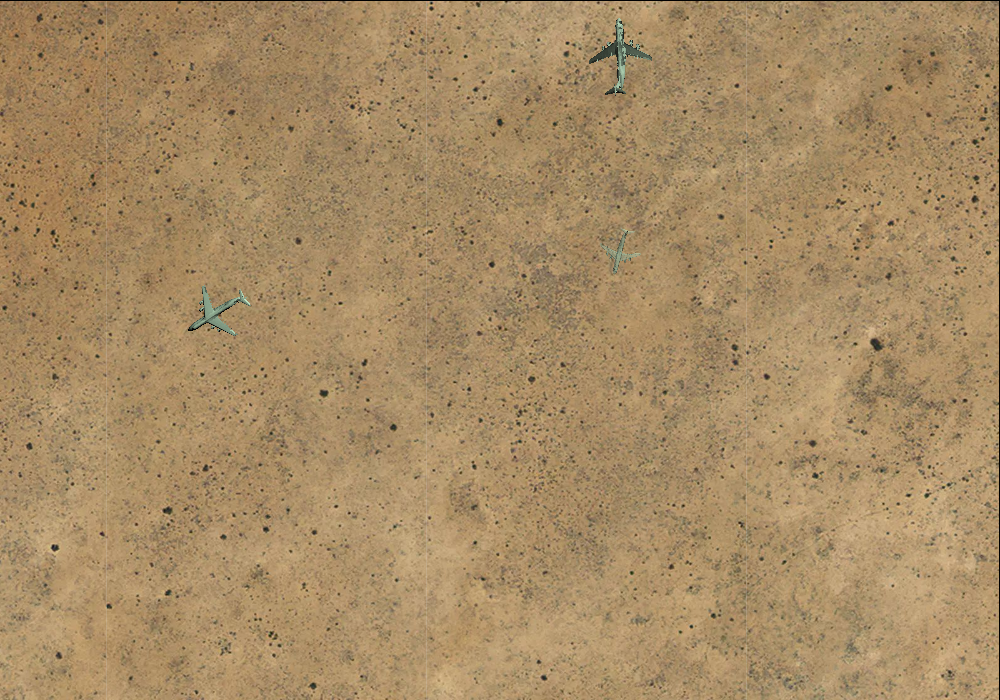plane: (171, 267, 263, 358), (579, 15, 656, 97), (593, 222, 649, 280)
